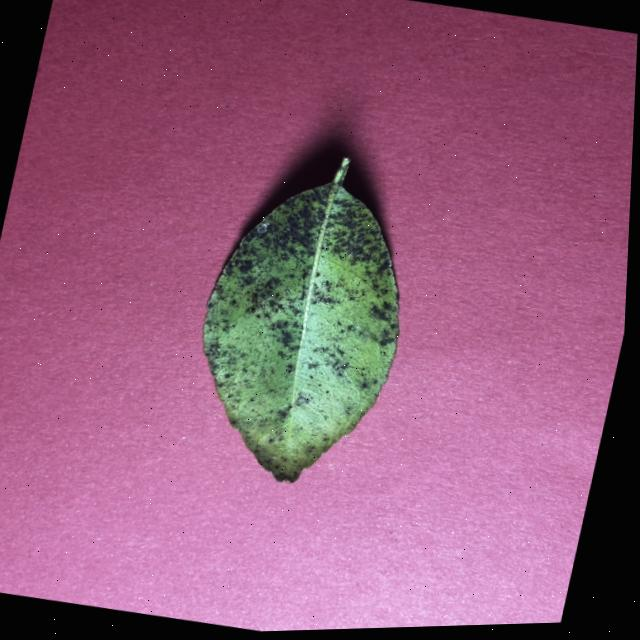sooty_mold: (202, 157, 397, 480)
